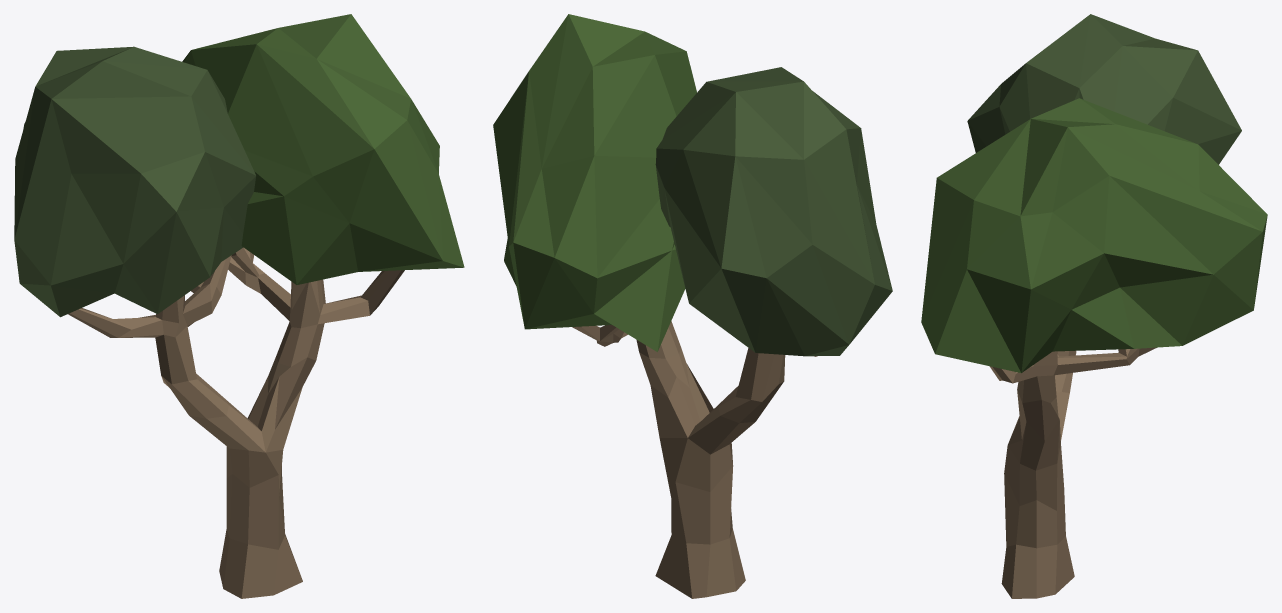
The model's file is Tree05.fbx.
The picture shows the model from 3 angles, left to right: view 1: azimuth 30°, elevation 25°; view 2: azimuth 150°, elevation 25°; view 3: azimuth 270°, elevation 25°; orthographic projection. The views are drawn at different scales.
Visible parts, largest first — view 1: Leaves01, Leaves02, Trunk; view 2: Leaves01, Leaves02, Trunk; view 3: Leaves02, Leaves01, Trunk.
Boxes of the visible parts, left/top/right/bottom form: Leaves01: left=14, top=46, right=255, bottom=317; Leaves02: left=182, top=14, right=464, bottom=284; Trunk: left=68, top=247, right=404, bottom=598; Leaves01: left=655, top=67, right=892, bottom=356; Leaves02: left=493, top=14, right=696, bottom=351; Trunk: left=572, top=321, right=817, bottom=598; Leaves02: left=921, top=98, right=1267, bottom=373; Leaves01: left=967, top=14, right=1241, bottom=164; Trunk: left=989, top=347, right=1156, bottom=598.
Size of the model in its own units: 6.83 by 5.54 by 9.01.
